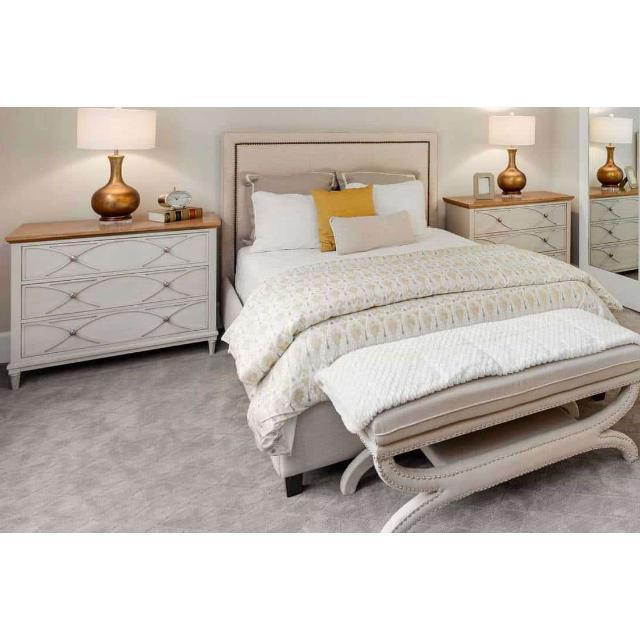bed: (222, 133, 640, 497)
dresser: (6, 206, 218, 393)
lamp: (492, 115, 536, 197)
